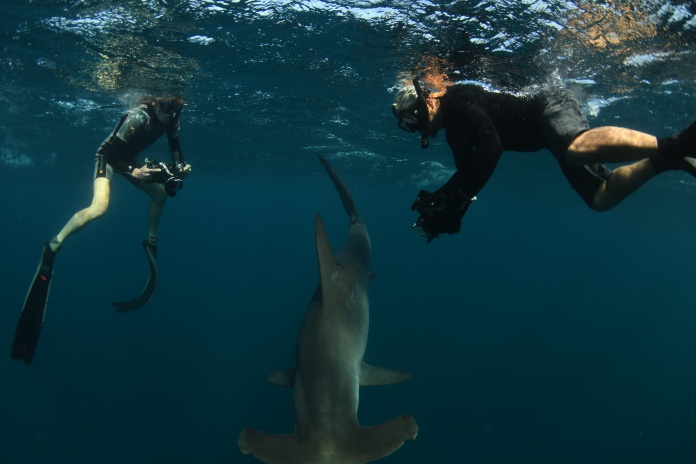Hammer: (222, 151, 427, 464)
